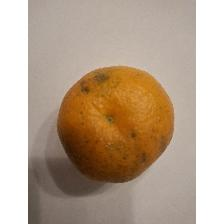Mandarine: (56, 64, 178, 188)
